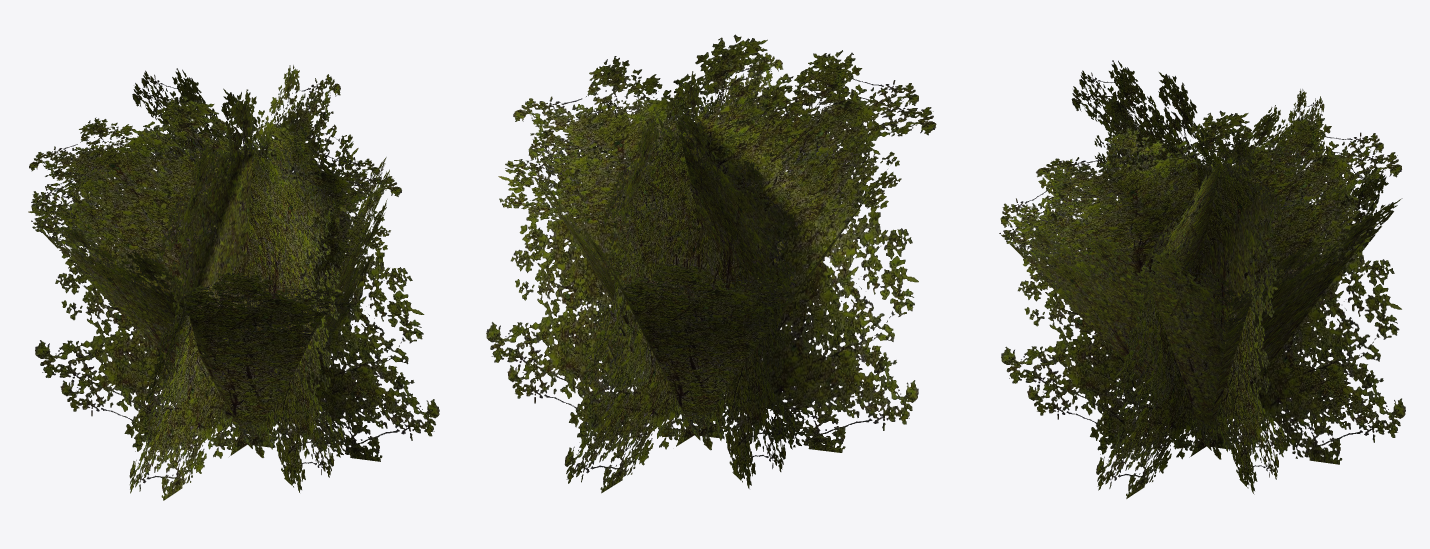
Rendered from KM_VOB_BIG_BUSH_07.glb.
3 renders of one model, left to right at view 1: azimuth 30°, elevation 25°; view 2: azimuth 150°, elevation 25°; view 3: azimuth 270°, elevation 25°, orthographic. The views are drawn at different scales.
Parts seen in each view (by area): view 1: Mesh; view 2: Mesh; view 3: Mesh.
Part boxes in pixels (x1=…): Mesh: x1=28, y1=65, x2=439, y2=500; Mesh: x1=486, y1=34, x2=936, y2=493; Mesh: x1=999, y1=60, x2=1405, y2=498.
Size of the model in its own units: 2.97 by 3.3 by 3.41.
1 material, 1 textured.
